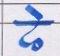e_matra: (25, 5, 44, 21)
